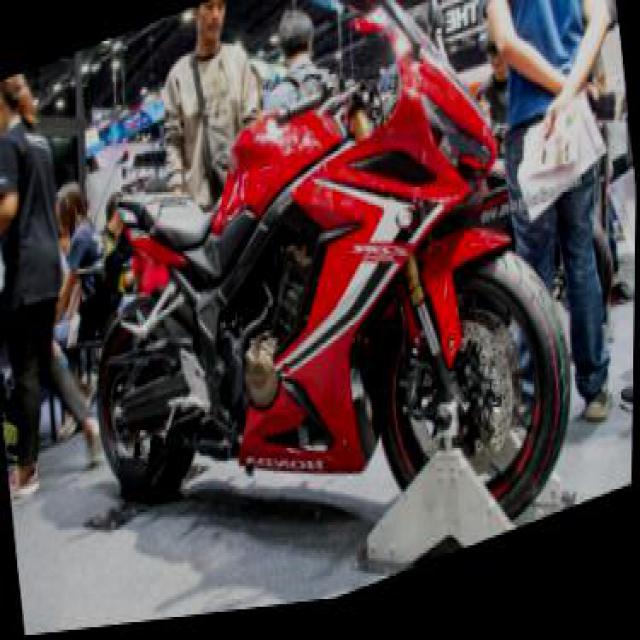CBR500R: (58, 0, 588, 633)
